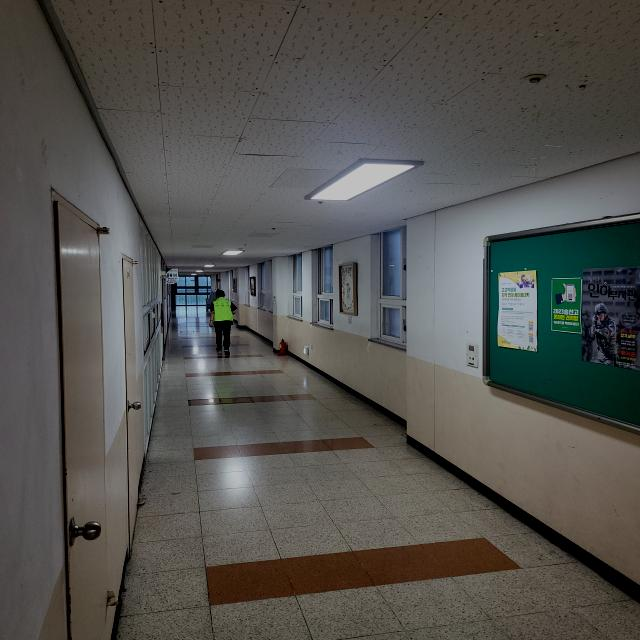weston_spy: (208, 292, 245, 332)
